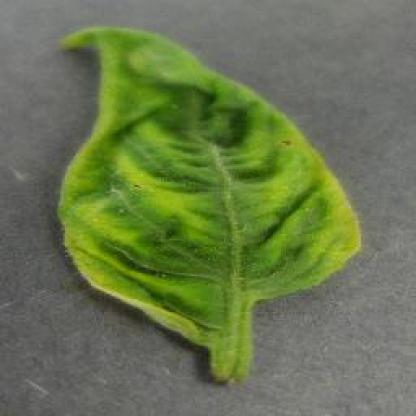bad leaf: (58, 180, 219, 340), (92, 32, 184, 176), (296, 132, 365, 279)
